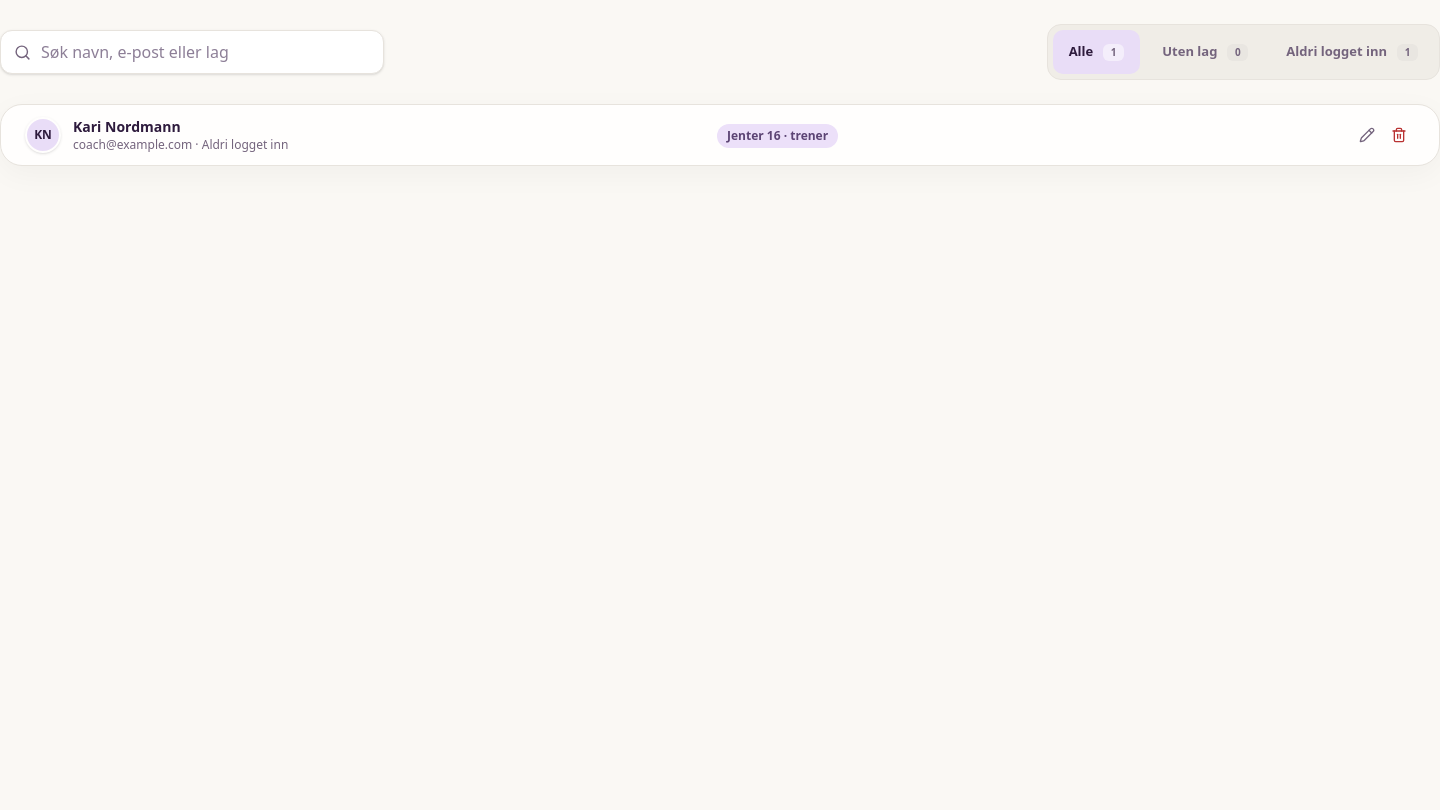
Scenario: admin account directory › requires the exact email address before permanent deletion
Click the button named "Slett coach@example.com permanent".
click(1399, 135)  # box [1383,117,1415,153]
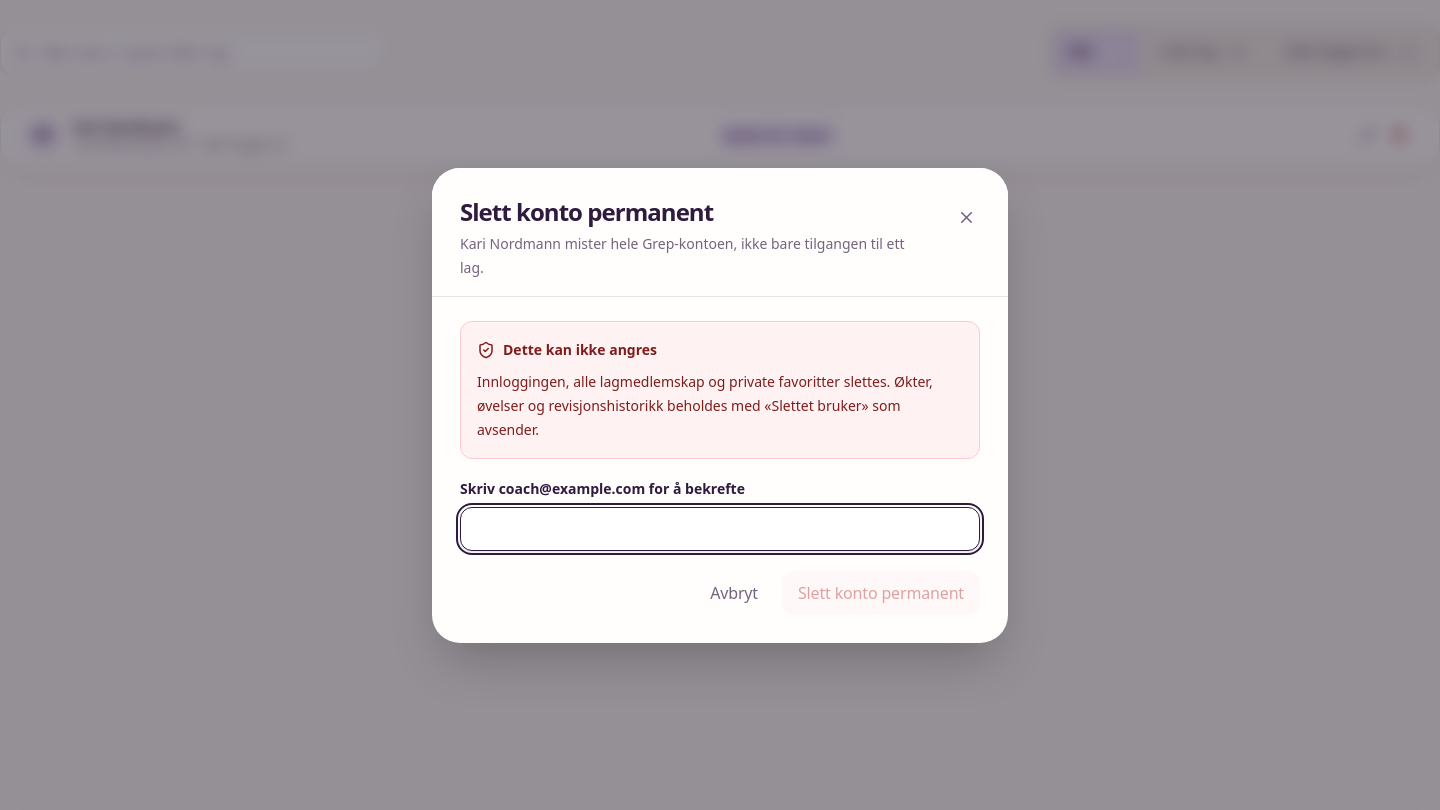
Now the button "Slett konto permanent" is disabled, box [782,570,980,614]
Type "coach@example.com" into the field labelled "Skriv coach@example.com for å bekrefte".
click(720, 528); type("coach@example.com")  # box [460,506,980,550]
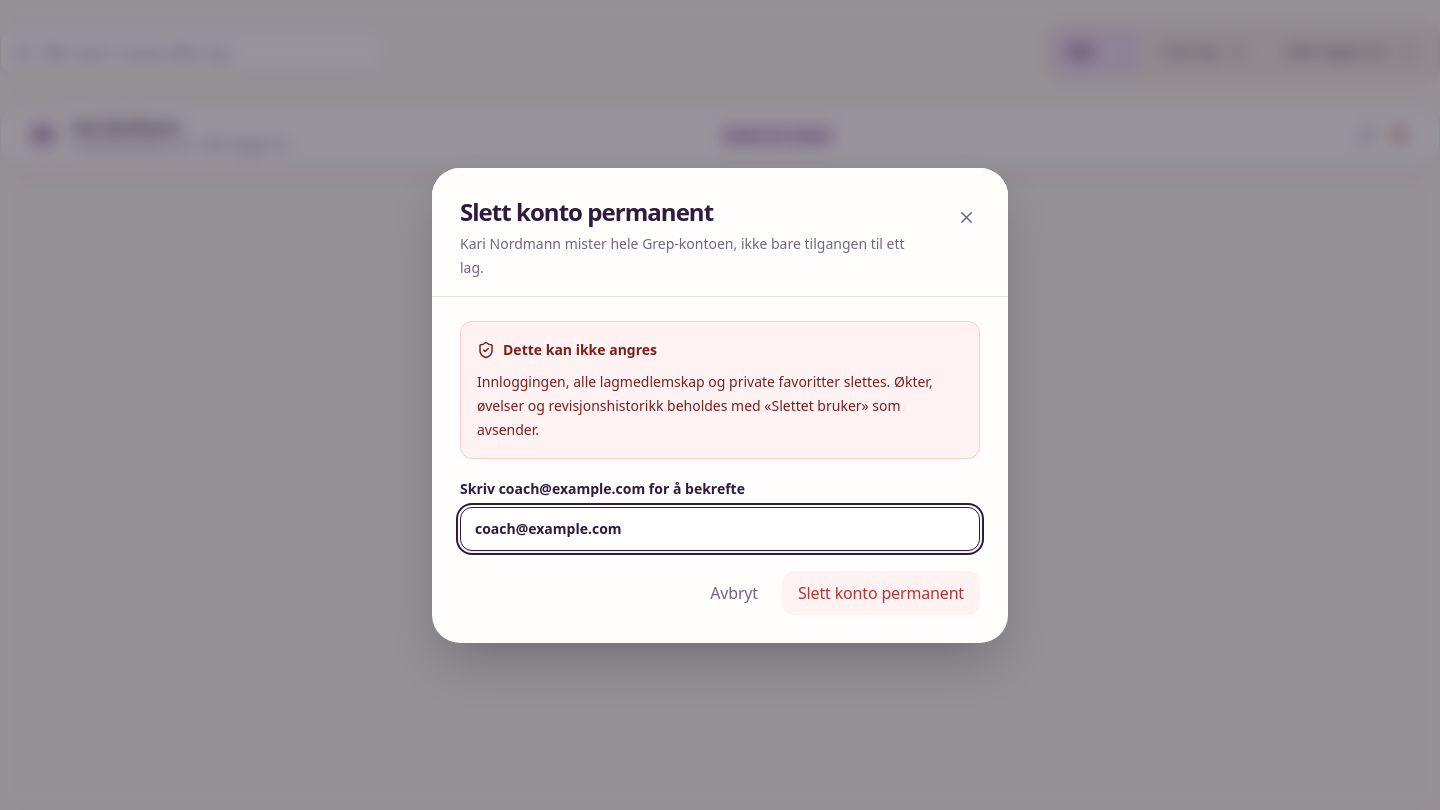
Now the button "Slett konto permanent" is enabled, box [782,570,980,614]
